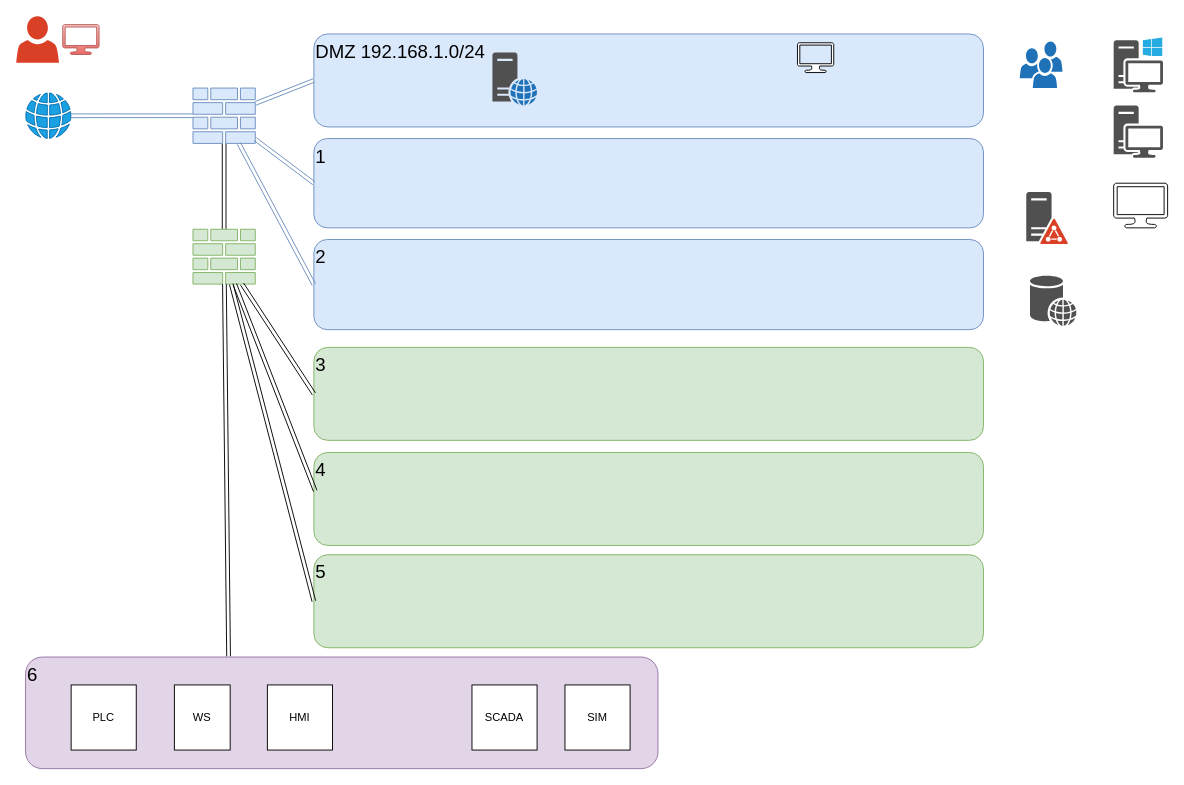
Image size: 1184x785. Some labels were removed from this diagram. Each missing label, with the centre of its shape:
FW1: point 223,115
FW2: point 223,256
WEB: point 514,78
